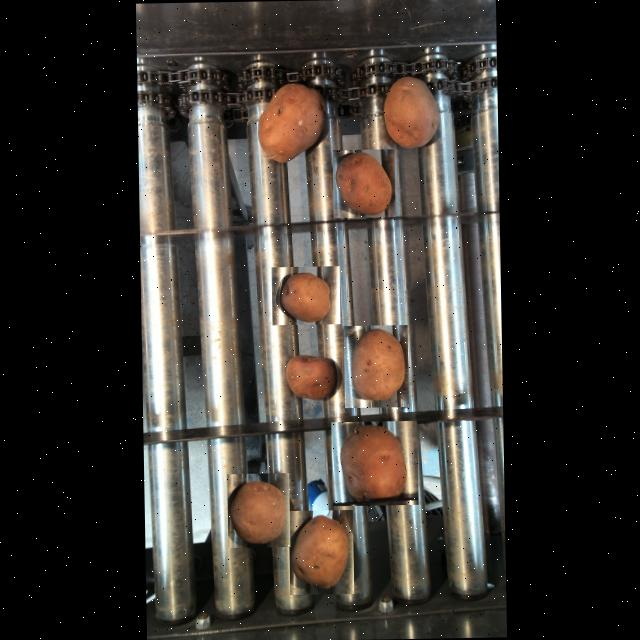Defected potato: (252, 77, 328, 166)
Diseased-fungal potato: (330, 420, 417, 506), (342, 324, 408, 408), (288, 510, 352, 594), (380, 73, 444, 152), (226, 472, 289, 548), (331, 148, 394, 218), (270, 266, 339, 325), (276, 350, 338, 408)
